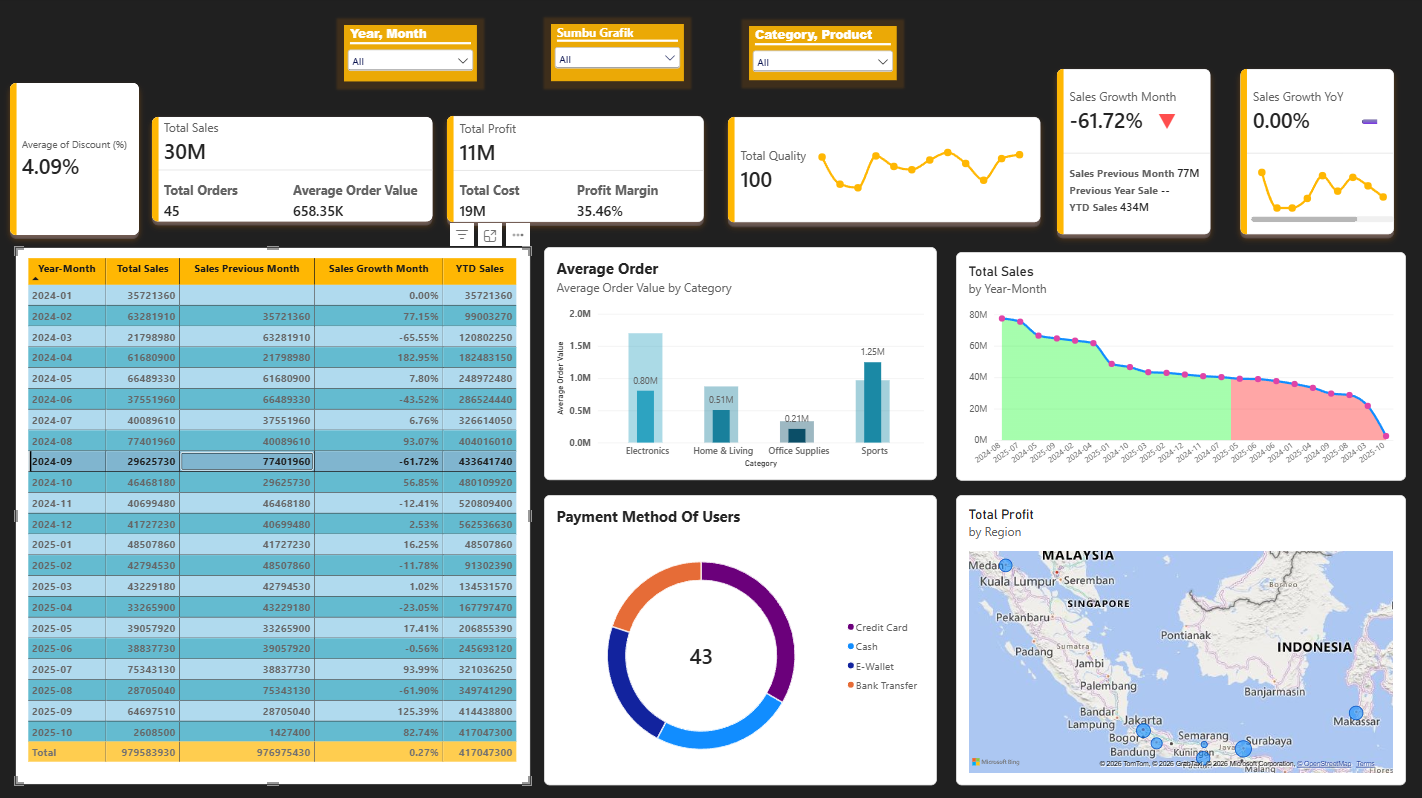

The dashboard page shown, as its layout file describes it:
{"tool":"powerbi","page":{"name":"Duplicate of Duplicate of Dashboard","canvas":[1920,1080],"ordinal":3},"visuals":[{"type":"cardVisual","fields":{"Data":["Sales_Data.Total Sales"]},"box":[191.2,145.4,410.7,173.7],"z":0},{"type":"cardVisual","fields":{"Data":["Sales_Data.Total Profit"]},"box":[588.6,143.9,378.4,175.1],"z":1000},{"type":"cardVisual","fields":{"Data":["Sales_Data.Sales Growth Month","Sales_Data.Sales Growth YoY"]},"box":[1409.4,81.1,486.1,255.9],"z":2000},{"type":"lineChart","fields":{"Category":["Calendar.Year-Month"],"Y":["Sales_Data.Total Sales"]},"box":[1290,342.9,606,308.4],"z":4000},{"type":"tableEx","fields":{"Values":["Calendar.Year-Month","Sales_Data.Total Sales","Sales_Data.Sales Previous Month","Sales_Data.Sales Growth Month","Sales_Data.YTD Sales"]},"box":[22.9,337.1,694.3,724.3],"z":5000},{"type":"cardVisual","fields":{"Data":["Sales_Data.Total Quality"]},"box":[967.3,145.5,453.6,174.5],"z":6000},{"type":"clusteredColumnChart","title":"Average Order","fields":{"Category":["Sales_Data.Category","Sales_Data.Payment Method","Sales_Data.Product"],"Y":["Sales_Data.Average Order Value"]},"box":[735.7,337.1,528.6,314.3],"z":7000},{"type":"map","fields":{"Category":["Sales_Data.Region"],"Size":["Sales_Data.Total Profit"]},"box":[1290,670,605.7,391.4],"z":8000},{"type":"donutChart","title":"Payment Method  Of Users","fields":{"Category":["Sales_Data.Payment Method"],"Series":["Calendar.Month"],"Y":["Count(Sales_Data.Customer ID)"]},"box":[735.7,670,528.6,391.4],"z":9000},{"type":"cardVisual","fields":{"Data":["Sales_Data.Indikator Clicks"]},"box":[1545.7,151.4,62.9,30],"z":10000},{"type":"cardVisual","fields":{"Data":["Sales_Data.YoY Indikator Clicks"]},"box":[1815.7,145.7,58.6,41.4],"z":11000},{"type":"slicer","fields":{"Values":["Calendar.Year","Calendar.Month"]},"box":[465.7,37.1,178.6,75.7],"z":12000},{"type":"slicer","fields":{"Values":["Sumbu Grafik.Sumbu Grafik"]},"box":[745,36,178.7,77.3],"z":13000},{"type":"slicer","fields":{"Values":["Sales_Data.Category","Sales_Data.Product"]},"box":[1011.4,38.6,198.6,72.9],"z":14000},{"type":"lineChart","fields":{"Category":["Calendar.Month"],"Y":["Sales_Data.Total Quality"]},"box":[1084.5,170,317.3,124.5],"z":15501},{"type":"cardVisual","fields":{"Data":["Avg(Sales_Data.Discount (%))"]},"box":[0,99.7,206,237],"z":15503},{"type":"lineChart","fields":{"Category":["Calendar.Month"],"Y":["Sales_Data.Sales Growth YoY"]},"box":[1671.2,195.3,224.9,123.9],"z":15504}]}

Visuals, with their boxes in screenshot pixels (x1, y1, x2, y2), scaled from the page's 1920x1080 canvas onto the 1422x798 screenshot:
cardVisual - Sales_Data.Total Sales: locate(142, 107, 446, 236)
cardVisual - Sales_Data.Total Profit: locate(436, 106, 716, 236)
cardVisual - Sales_Data.Sales Growth Month x Sales_Data.Sales Growth YoY: locate(1044, 60, 1404, 249)
lineChart - Calendar.Year-Month x Sales_Data.Total Sales: locate(955, 253, 1404, 481)
tableEx - Calendar.Year-Month x Sales_Data.Total Sales: locate(17, 249, 531, 784)
cardVisual - Sales_Data.Total Quality: locate(716, 108, 1052, 236)
"Average Order" clusteredColumnChart: locate(545, 249, 936, 481)
map - Sales_Data.Region x Sales_Data.Total Profit: locate(955, 495, 1404, 784)
"Payment Method  Of Users" donutChart: locate(545, 495, 936, 784)
cardVisual - Sales_Data.Indikator Clicks: locate(1145, 112, 1191, 134)
cardVisual - Sales_Data.YoY Indikator Clicks: locate(1345, 108, 1388, 138)
slicer - Calendar.Year x Calendar.Month: locate(345, 27, 477, 83)
slicer - Sumbu Grafik.Sumbu Grafik: locate(552, 27, 684, 84)
slicer - Sales_Data.Category x Sales_Data.Product: locate(749, 29, 896, 82)
lineChart - Calendar.Month x Sales_Data.Total Quality: locate(803, 126, 1038, 218)
cardVisual - Avg(Sales_Data.Discount (%)): locate(0, 74, 153, 249)
lineChart - Calendar.Month x Sales_Data.Sales Growth YoY: locate(1238, 144, 1404, 236)
